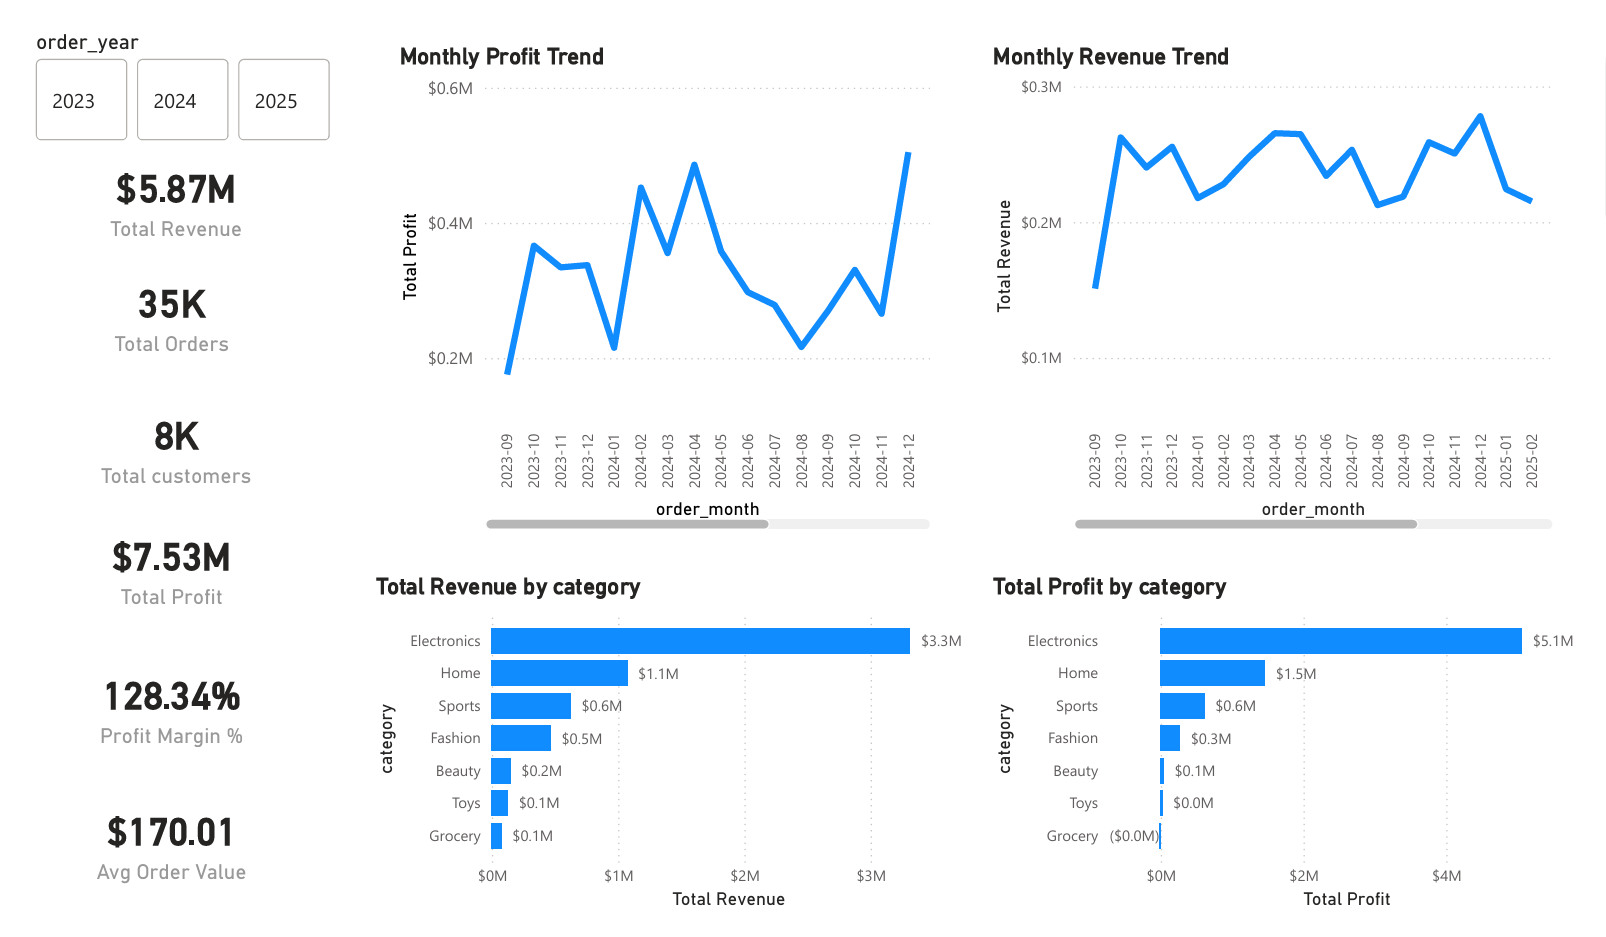

Layout of this report page (visuals, bound fields, positions):
{"tool":"powerbi","page":{"name":"Executive Overview","canvas":[1280,720],"ordinal":0},"visuals":[{"type":"card","title":"Average Order Value","fields":{"Values":["orders.Avg Order Value"]},"box":[0,621.6,264.8,79.6],"z":0},{"type":"card","fields":{"Values":["orders.Total Revenue"]},"box":[6.9,107,258,81],"z":1000},{"type":"card","fields":{"Values":["orders.Total Profit"]},"box":[0,396.6,264.8,90.6],"z":2000},{"type":"card","fields":{"Values":["orders.Total Orders"]},"box":[0,201.7,264.8,75.5],"z":3000},{"type":"card","fields":{"Values":["orders.Profit Margin %"]},"box":[0,514.6,264.8,76.8],"z":4000},{"type":"card","fields":{"Values":["orders.Total customers"]},"box":[6.9,307.4,258,75.5],"z":5000},{"type":"lineChart","title":"Monthly Revenue Trend","fields":{"Category":["orders.order_month","orders.order_month_date.Variation.Date Hierarchy.Year","orders.order_month_date.Variation.Date Hierarchy.Quarter","orders.order_month_date.Variation.Date Hierarchy.Month","orders.order_month_date.Variation.Date Hierarchy.Day"],"Y":["orders.Total Revenue"]},"box":[784.9,23.3,457,394.2],"z":6000},{"type":"lineChart","title":"Monthly Profit Trend","fields":{"Category":["orders.order_month","orders.order_month_date.Variation.Date Hierarchy.Year","orders.order_month_date.Variation.Date Hierarchy.Quarter","orders.order_month_date.Variation.Date Hierarchy.Month","orders.order_month_date.Variation.Date Hierarchy.Day"],"Y":["orders.Total Profit"]},"box":[310.5,23.3,433.7,394.2],"z":7000},{"type":"clusteredBarChart","fields":{"Category":["orders.category"],"Y":["orders.Total Revenue"]},"box":[290.7,446.5,494.2,274.4],"z":8000},{"type":"clusteredBarChart","fields":{"Category":["orders.category"],"Y":["orders.Total Profit"]},"box":[784.9,446.5,495.4,274.4],"z":9000},{"type":"advancedSlicerVisual","fields":{"Values":["orders.order_year"]},"box":[19.2,12.3,245.6,94.7],"z":10000}]}

Visuals, with their boxes on the page's 1280x720 design canvas (x1, y1, x2, y2). These are canvas units, not pixel positions in the 1606x937 screenshot, which may show the page scaled, cropped or inside an application window:
"Average Order Value" card: bbox(0, 622, 265, 701)
card - orders.Total Revenue: bbox(7, 107, 265, 188)
card - orders.Total Profit: bbox(0, 397, 265, 487)
card - orders.Total Orders: bbox(0, 202, 265, 277)
card - orders.Profit Margin %: bbox(0, 515, 265, 591)
card - orders.Total customers: bbox(7, 307, 265, 383)
"Monthly Revenue Trend" lineChart: bbox(785, 23, 1242, 418)
"Monthly Profit Trend" lineChart: bbox(310, 23, 744, 418)
clusteredBarChart - orders.category x orders.Total Revenue: bbox(291, 446, 785, 721)
clusteredBarChart - orders.category x orders.Total Profit: bbox(785, 446, 1280, 721)
advancedSlicerVisual - orders.order_year: bbox(19, 12, 265, 107)
